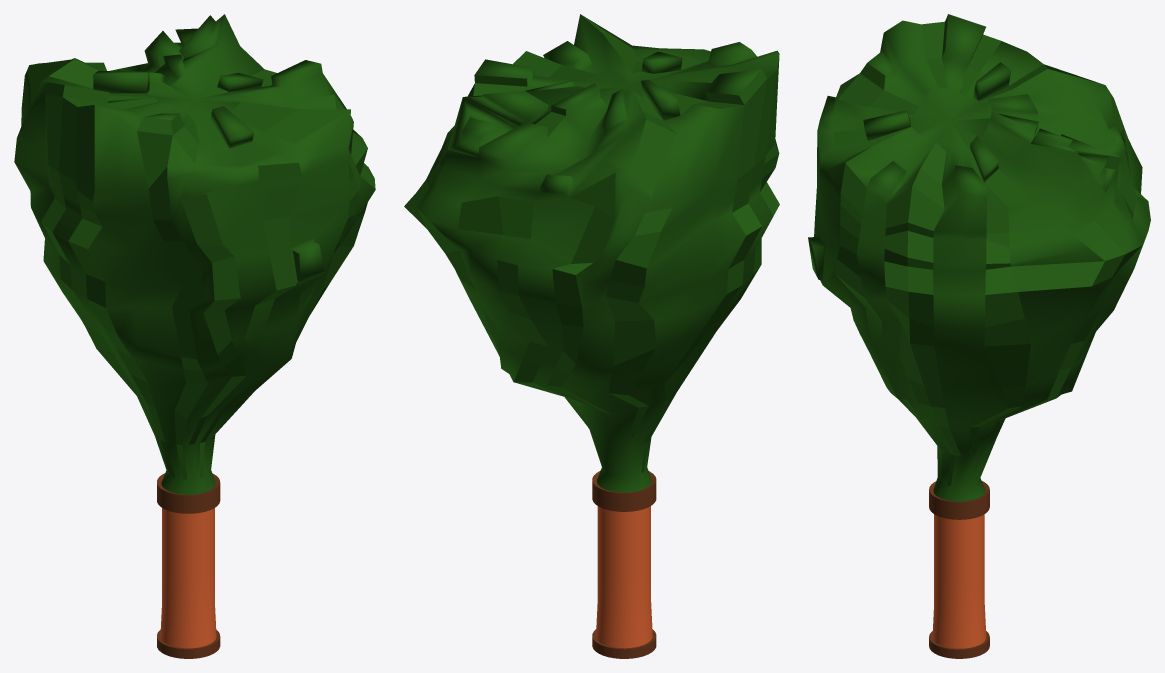
Rendered from vasta.fbx.
3 views of the same model, side by side, from view 1: azimuth 30°, elevation 25°; view 2: azimuth 150°, elevation 25°; view 3: azimuth 270°, elevation 25° (orthographic). The views are drawn at different scales.
Parts seen in each view (by area): view 1: Vihta; view 2: Vihta; view 3: Vihta.
Part boxes in pixels (<box>): Vihta: <box>14,14,375,658</box>; Vihta: <box>404,14,779,658</box>; Vihta: <box>808,14,1150,658</box>.
Size of the model in its own units: 47.92 by 89.53 by 48.7.
